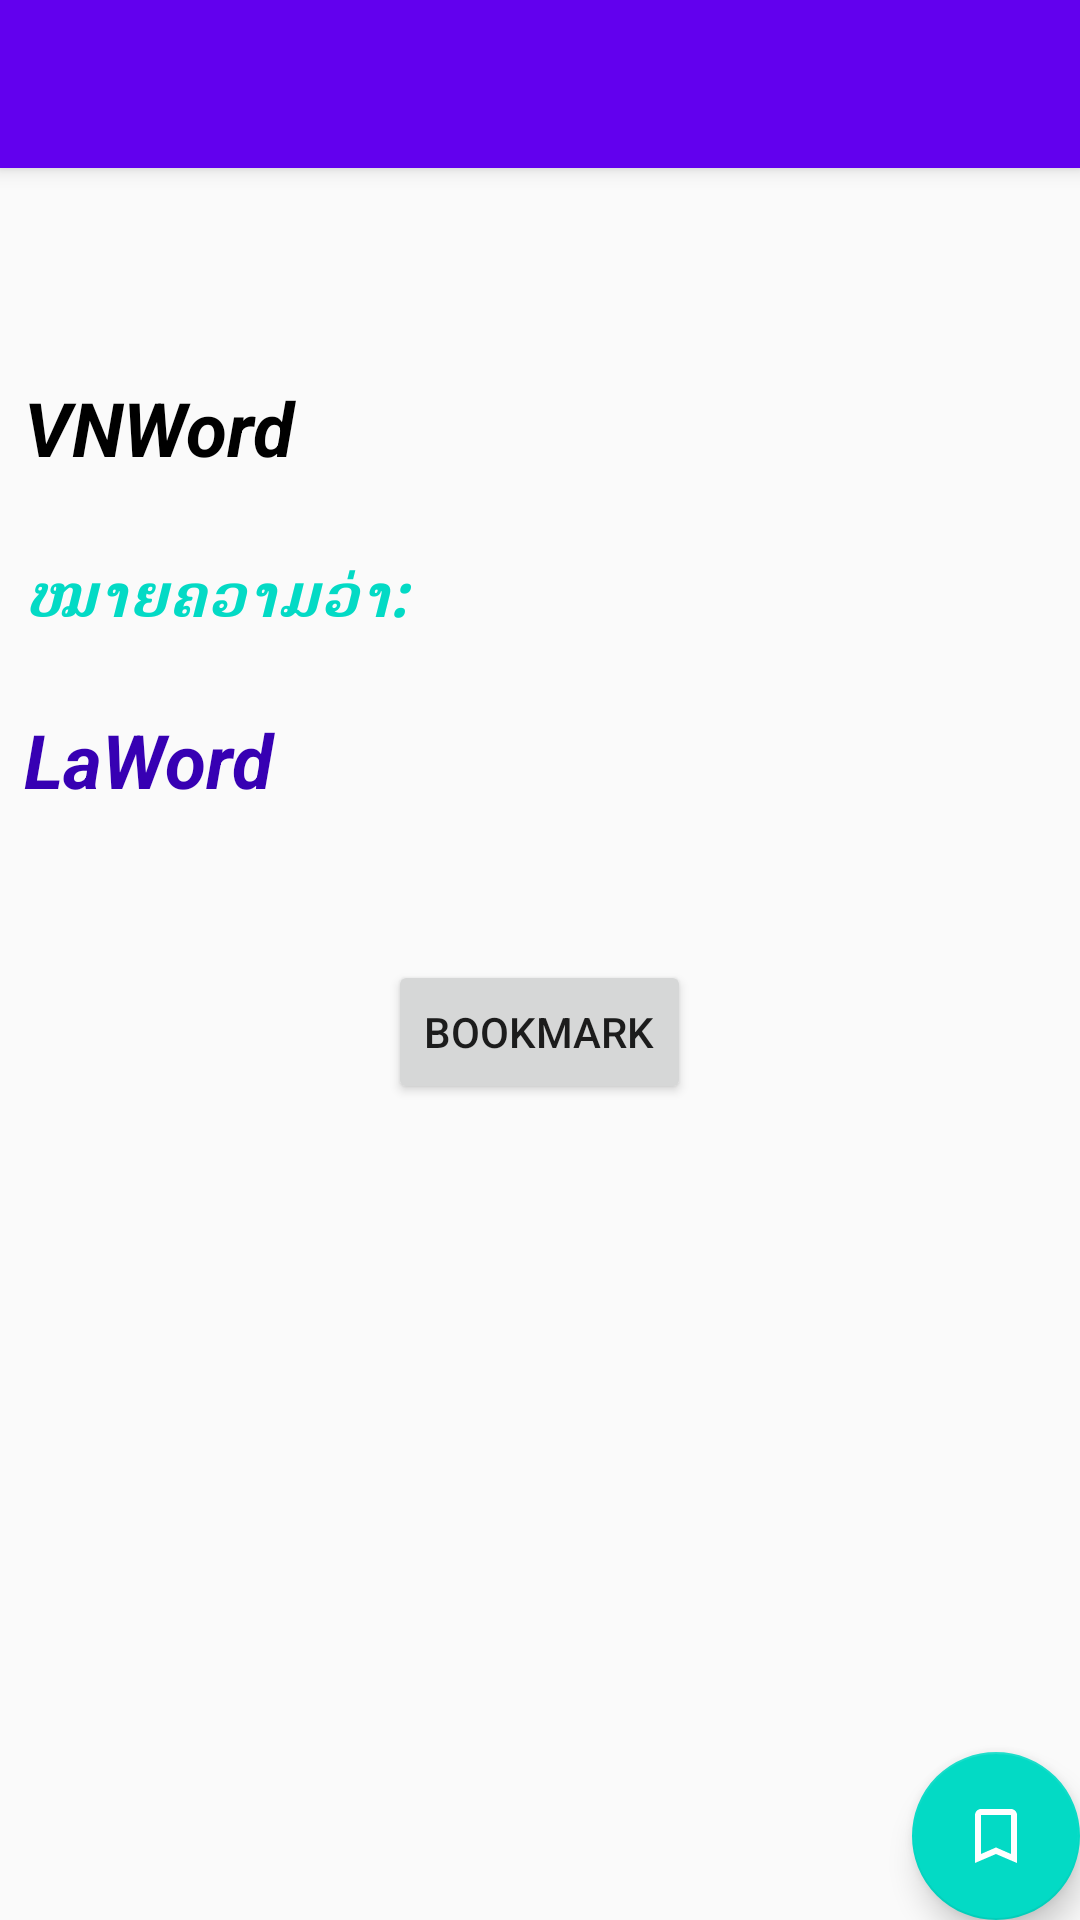

Icons on this 1080x1920 Android screen, each with the point to tap as [x,y]:
bookmark border: [996,1836]
